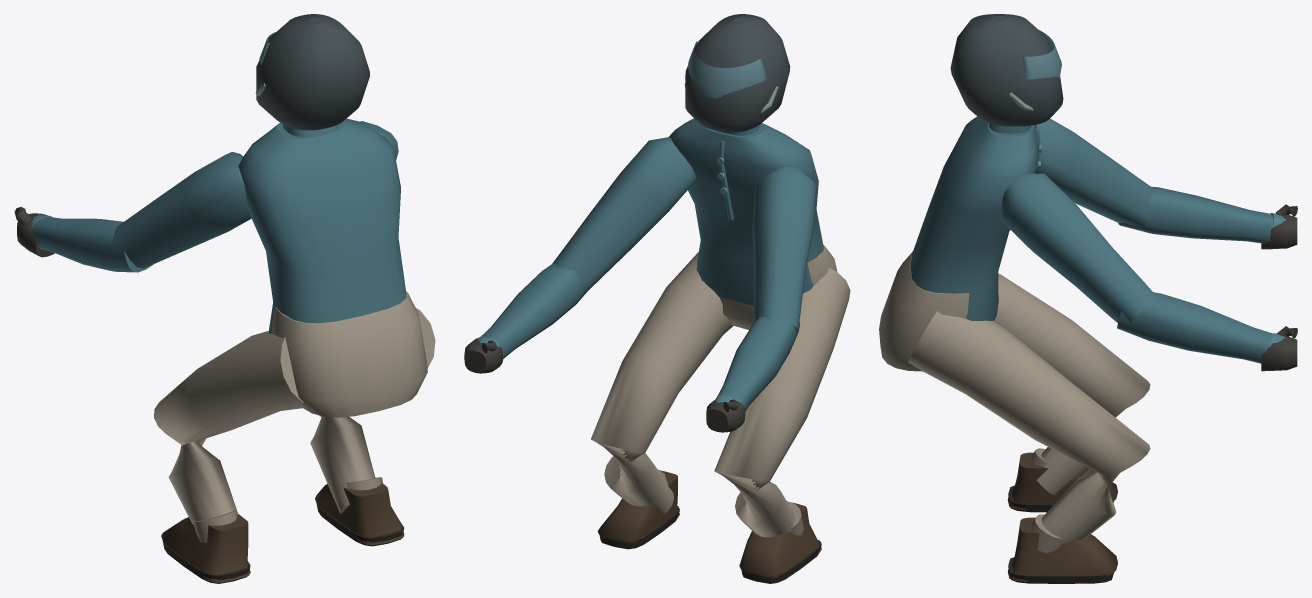
Rendered from unique70-rider.glb.
3 renders of one model, left to right at view 1: azimuth 30°, elevation 25°; view 2: azimuth 150°, elevation 25°; view 3: azimuth 270°, elevation 25°, orthographic. The views are drawn at different scales.
Visible parts, largest first — view 1: Seated shalwar and shoes, Sateen kameez, Full-face helmet with tinted visor, Fitted upper sleeve L, Tapered lower sleeve L, Gloved hand L; view 2: Seated shalwar and shoes, Sateen kameez, Full-face helmet with tinted visor, Fitted upper sleeve R, Fitted upper sleeve L, Tapered lower sleeve R, Tapered lower sleeve L, Gloved hand R, Gloved hand L; view 3: Seated shalwar and shoes, Sateen kameez, Full-face helmet with tinted visor, Fitted upper sleeve R, Fitted upper sleeve L, Tapered lower sleeve R, Tapered lower sleeve L, Gloved hand R, Gloved hand L.
Part boxes in pixels (box(x1,y1,x2,y2)): Seated shalwar and shoes: box(154, 291, 435, 583); Sateen kameez: box(238, 118, 406, 333); Full-face helmet with tinted visor: box(255, 14, 369, 130); Fitted upper sleeve L: box(110, 152, 251, 268); Tapered lower sleeve L: box(31, 214, 153, 272); Gloved hand L: box(14, 207, 54, 257); Seated shalwar and shoes: box(591, 245, 850, 583); Sateen kameez: box(669, 118, 823, 305); Full-face helmet with tinted visor: box(684, 14, 790, 132); Fitted upper sleeve R: box(552, 137, 695, 294); Fitted upper sleeve L: box(752, 166, 816, 332); Tapered lower sleeve R: box(478, 263, 585, 358); Tapered lower sleeve L: box(715, 316, 799, 411); Gloved hand R: box(464, 338, 502, 373); Gloved hand L: box(706, 399, 745, 432); Seated shalwar and shoes: box(879, 251, 1150, 583); Sateen kameez: box(910, 116, 1041, 320); Full-face helmet with tinted visor: box(950, 14, 1063, 126); Fitted upper sleeve R: box(1000, 173, 1155, 322); Fitted upper sleeve L: box(1035, 118, 1155, 227); Tapered lower sleeve R: box(1117, 292, 1285, 363); Tapered lower sleeve L: box(1118, 186, 1285, 243); Gloved hand R: box(1261, 326, 1297, 371); Gloved hand L: box(1261, 204, 1297, 249).
Size of the model in its own units: 0.68 by 1.19 by 0.8724.
